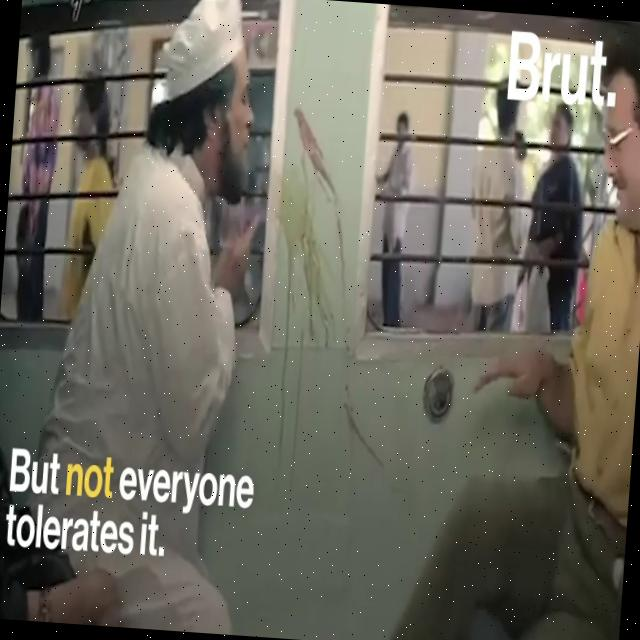spit: (156, 0, 346, 299)
